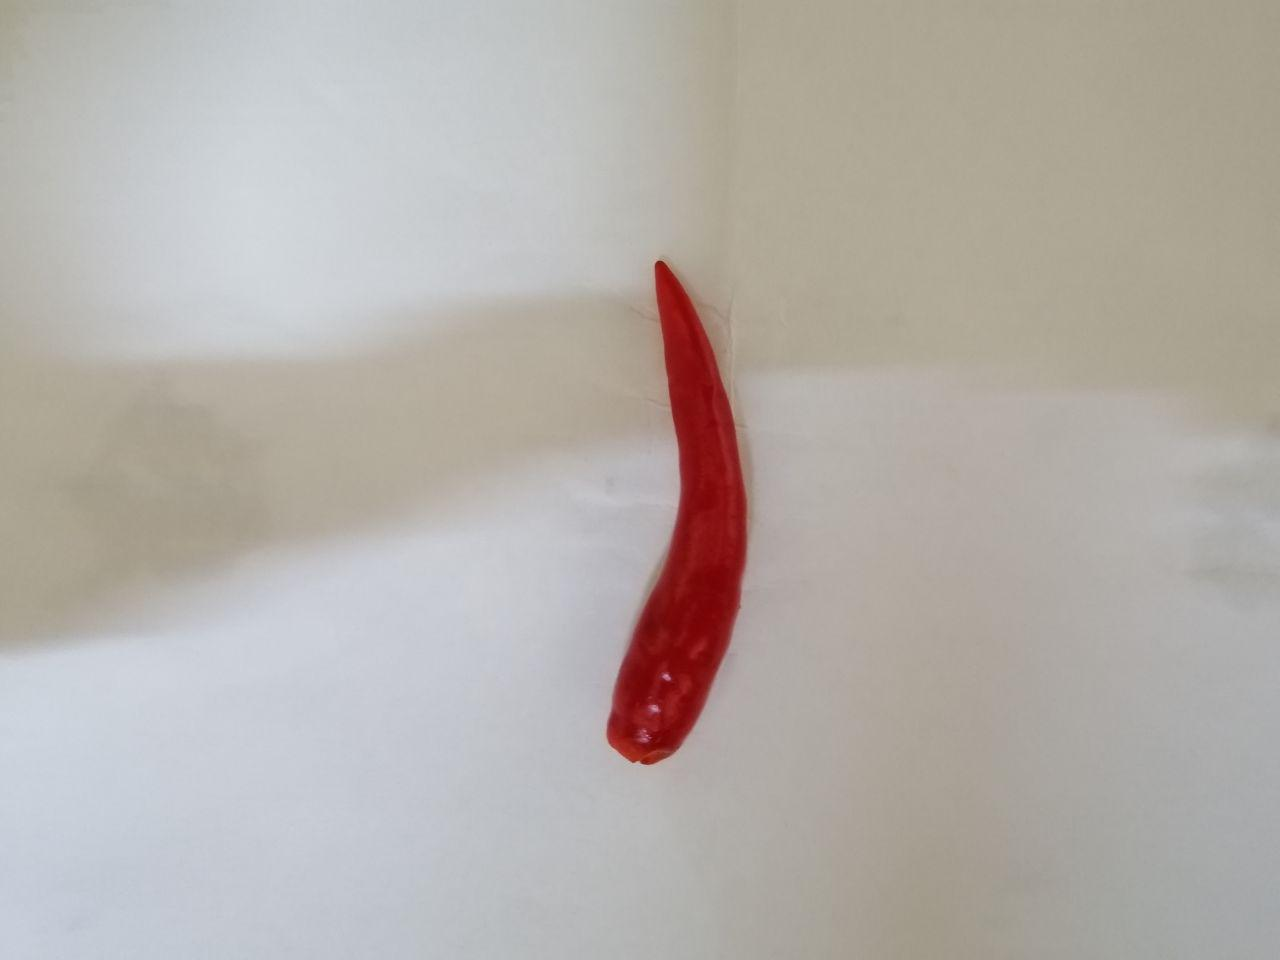lada merah: (577, 239, 778, 790)
